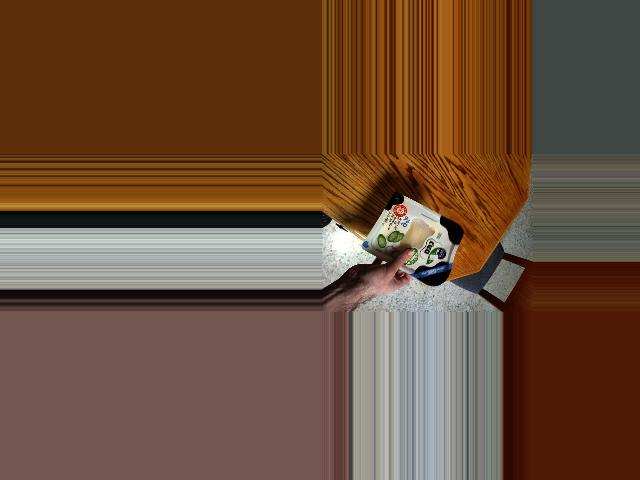cheese: (373, 198, 461, 284)
